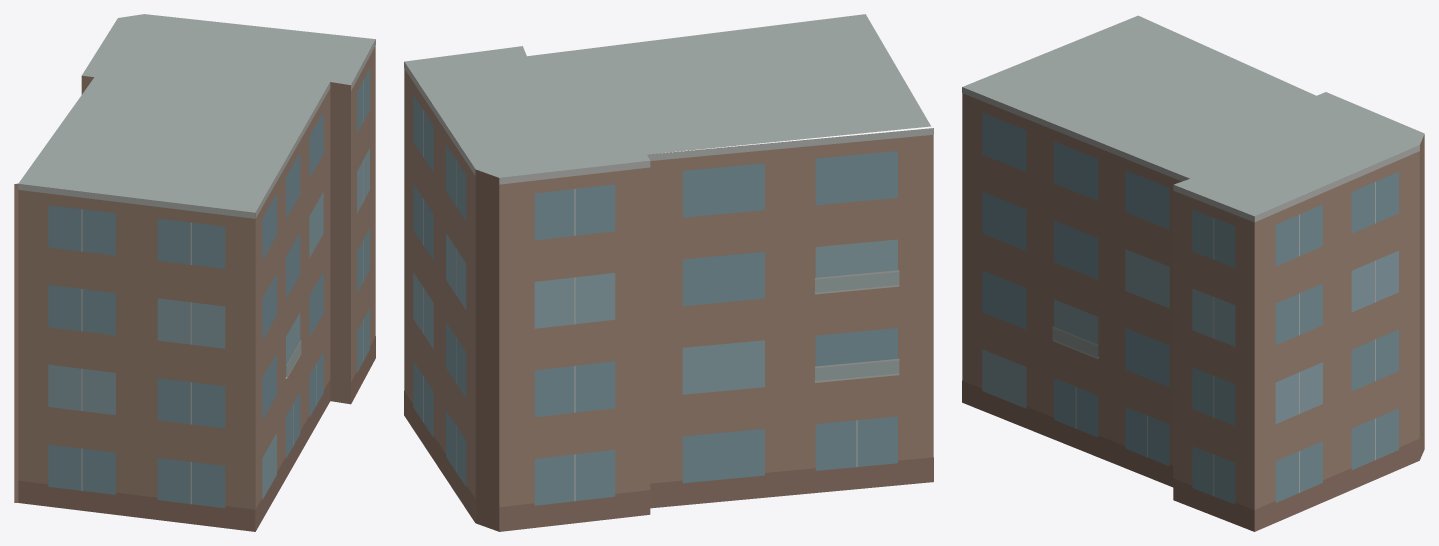
File: survey-upis-32814427.glb
3 renders of one model, left to right at view 1: azimuth 30°, elevation 25°; view 2: azimuth 150°, elevation 25°; view 3: azimuth 270°, elevation 25°, orthographic. The views are drawn at different scales.
Parts seen in each view (by area): view 1: survey-upis-32814427.tmp; view 2: survey-upis-32814427.tmp; view 3: survey-upis-32814427.tmp.
Boxes of the visible parts, <box> form: survey-upis-32814427.tmp: <box>14,14,375,531</box>; survey-upis-32814427.tmp: <box>404,14,933,531</box>; survey-upis-32814427.tmp: <box>962,15,1424,531</box>.
Size of the model in its own units: 17.61 by 12.8 by 17.02.
